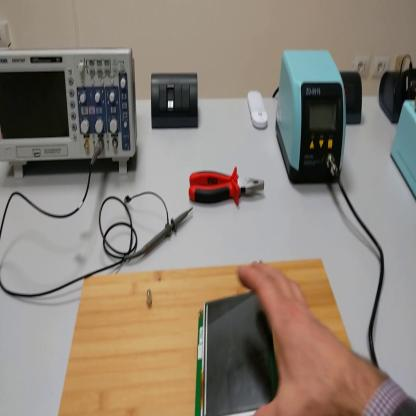hand: (239, 260, 369, 416)
oscilloscope: (2, 48, 140, 181)
oscilloscope probe tip: (124, 208, 195, 263)
pliers: (188, 168, 267, 206)
socket: (378, 67, 416, 128), (341, 72, 364, 127)
welder base: (388, 98, 416, 201)
welder station: (275, 45, 347, 187)
working area: (59, 251, 352, 415)
